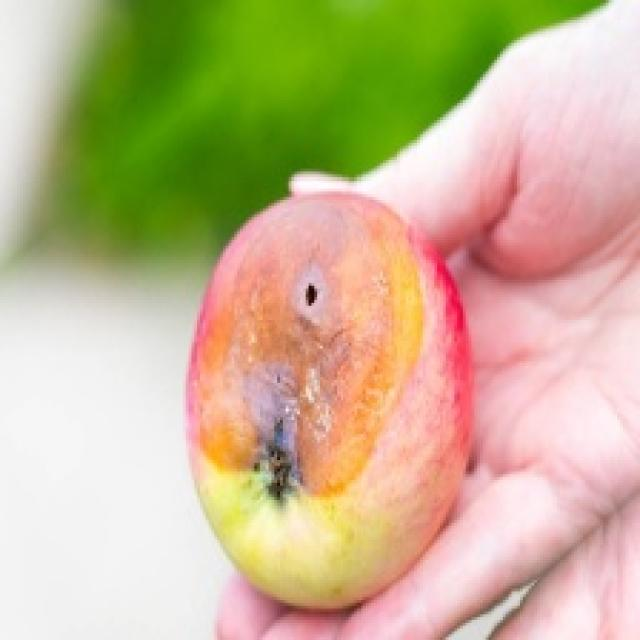rotten_apple: (192, 195, 470, 603)
